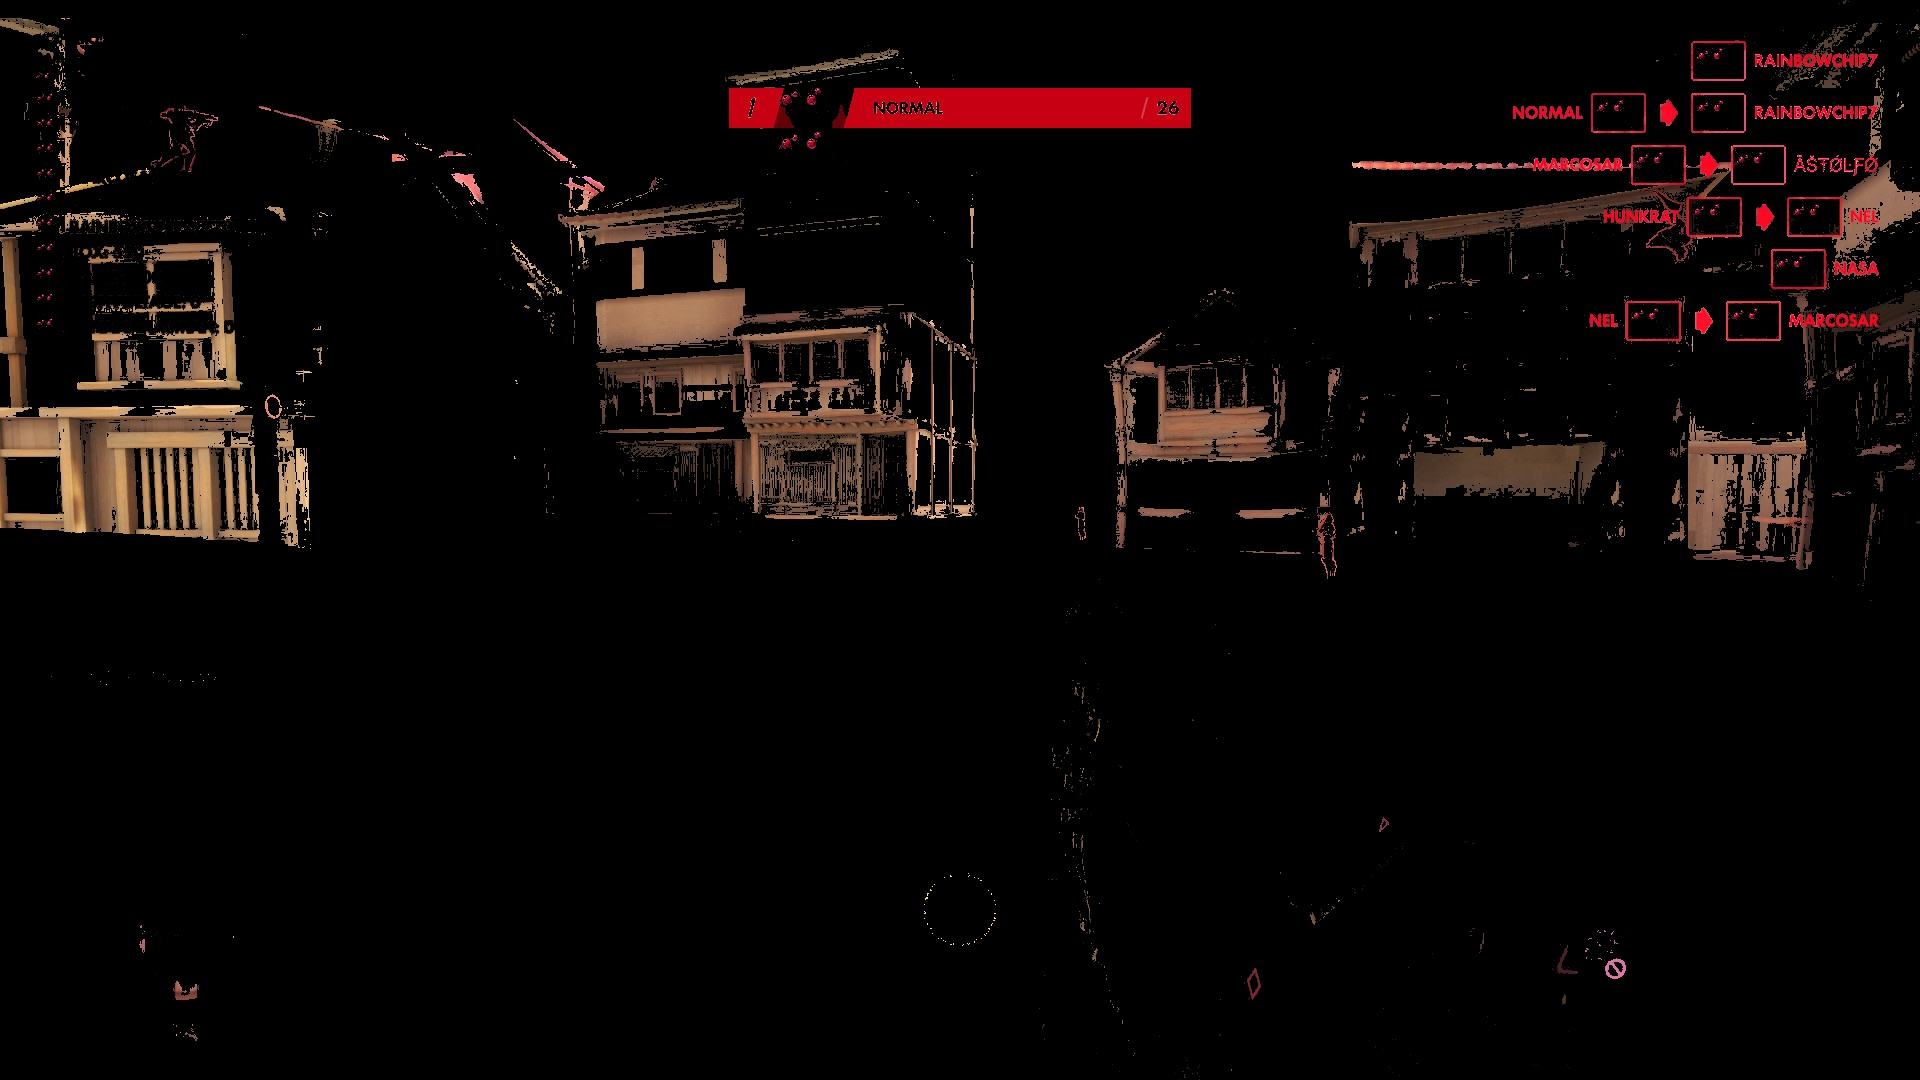widowmaker: (154, 99, 223, 183), (1313, 512, 1352, 593), (1071, 505, 1092, 545)
